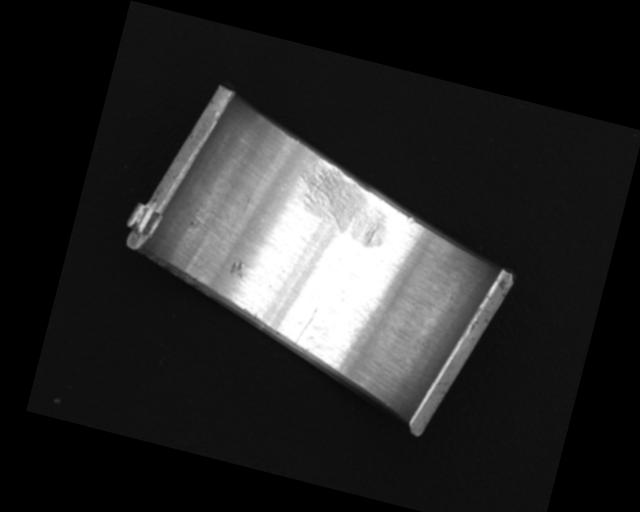bruise: (227, 258, 246, 280), (405, 215, 416, 225)
nick: (292, 303, 319, 349)
scratch: (286, 157, 402, 251)
